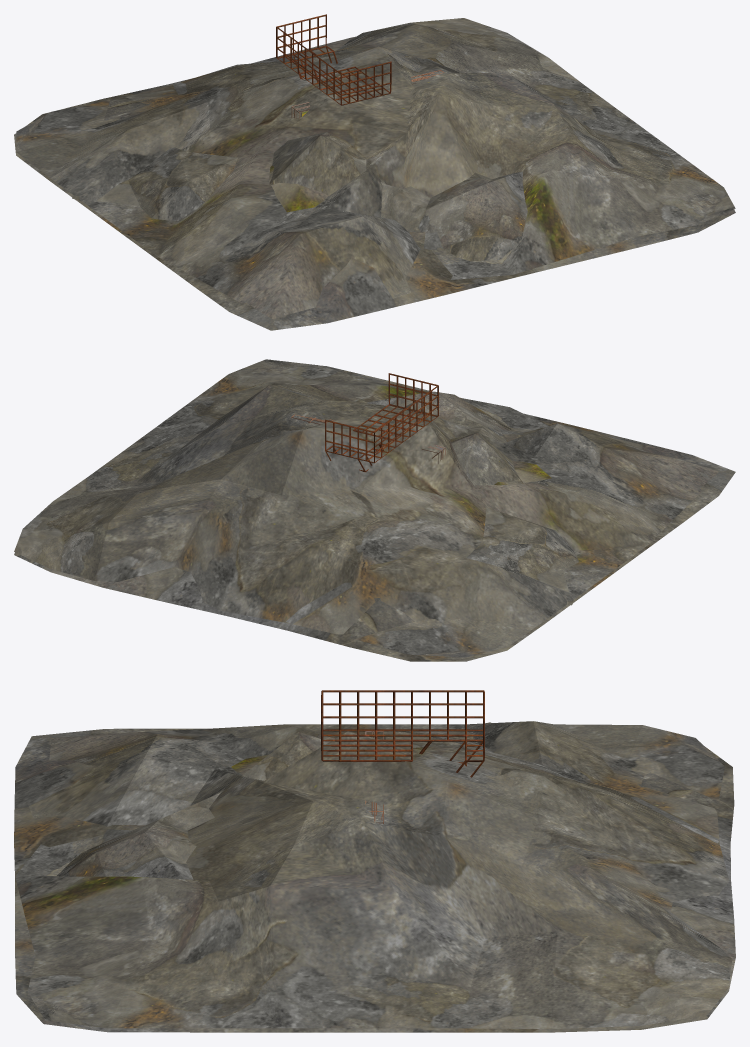
File: billboard_3.glb
3 views of the same model, one above another, from view 1: azimuth 30°, elevation 25°; view 2: azimuth 150°, elevation 25°; view 3: azimuth 270°, elevation 25° (orthographic). The views are drawn at different scales.
Visible parts, largest first — view 1: Wreckage 2, Wreckage 3, Wreckage 1, FireStairs; view 2: Wreckage 2, Wreckage 1, Wreckage 3, FireStairs; view 3: Wreckage 2, Wreckage 1, Wreckage 3, FireStairs.
Part boxes in pixels (x1,y1,x2,y2): Wreckage 2: [16, 18, 735, 319]; Wreckage 3: [72, 132, 527, 261]; Wreckage 1: [14, 36, 735, 330]; FireStairs: [276, 14, 391, 105]; Wreckage 2: [14, 359, 718, 657]; Wreckage 1: [14, 365, 735, 661]; Wreckage 3: [367, 391, 578, 605]; FireStairs: [325, 373, 438, 472]; Wreckage 2: [15, 721, 732, 1029]; Wreckage 1: [14, 728, 735, 1032]; Wreckage 3: [57, 722, 492, 879]; FireStairs: [321, 690, 484, 777].
Size of the model in its own units: 20.22 by 4.91 by 20.08.
Materials: 3 (3 with a texture image).
